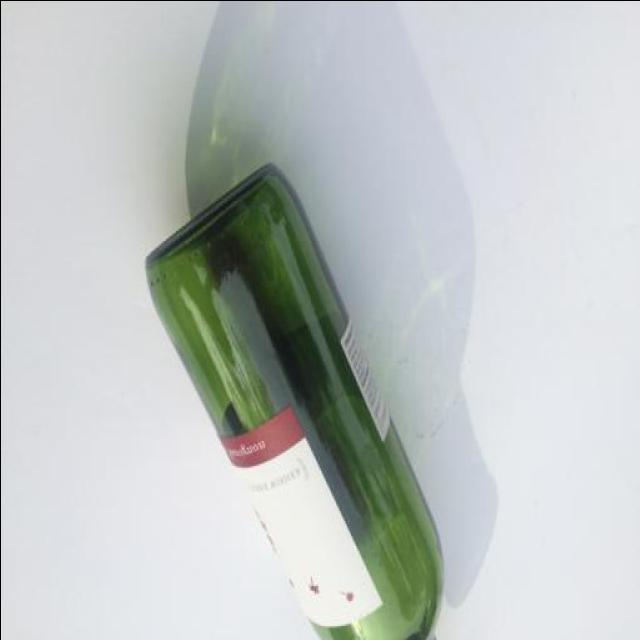glass: (137, 143, 445, 635)
